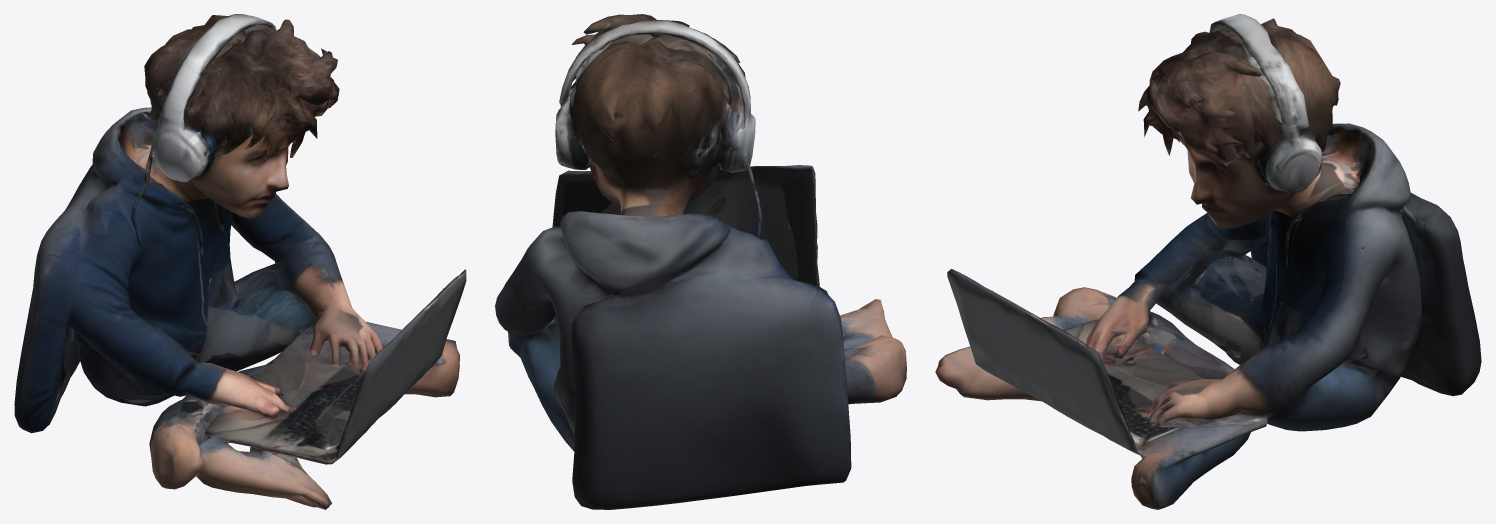
The model's file is Create_a_guy_using_la_0317101009_texture.glb.
3 renders of one model, left to right at view 1: azimuth 30°, elevation 25°; view 2: azimuth 150°, elevation 25°; view 3: azimuth 270°, elevation 25°, orthographic. The views are drawn at different scales.
Bounding box in the file's own units: 1.69 × 1.63 × 2.01.
1 material, 1 textured.
